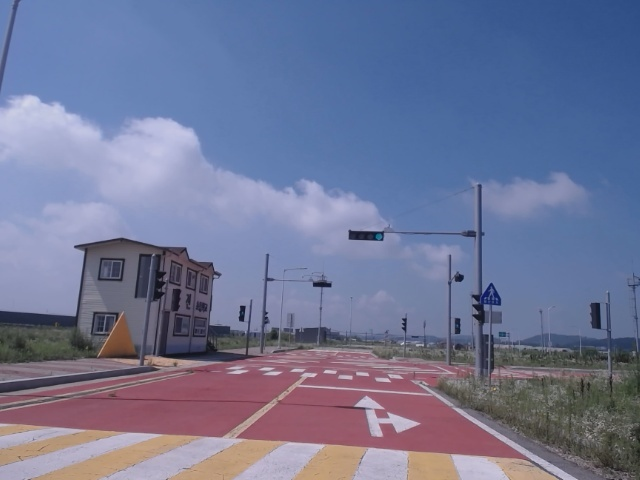straight_green_4: (349, 232, 383, 240)
